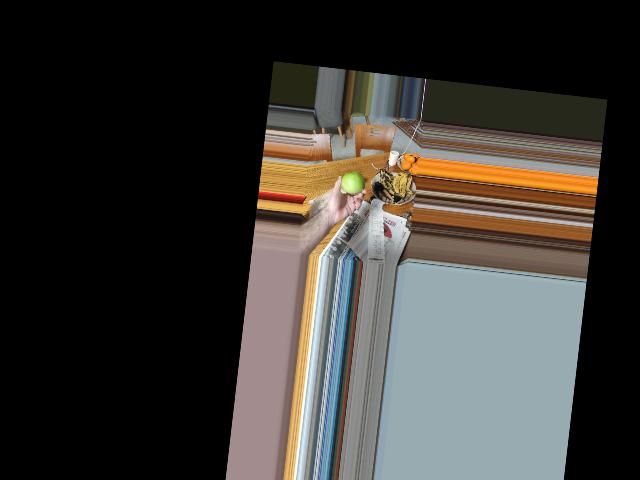apple: (340, 166, 365, 196)
